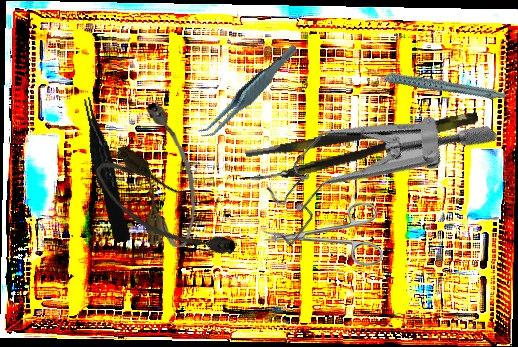Cannula: (85, 139, 245, 281), (137, 100, 200, 250)
Handpiece: (363, 37, 508, 128)
Iris Scissors: (263, 202, 383, 266)
Speculum: (242, 43, 500, 306)
Tissue Forceps: (244, 108, 483, 185), (184, 43, 313, 142), (79, 94, 132, 245)
